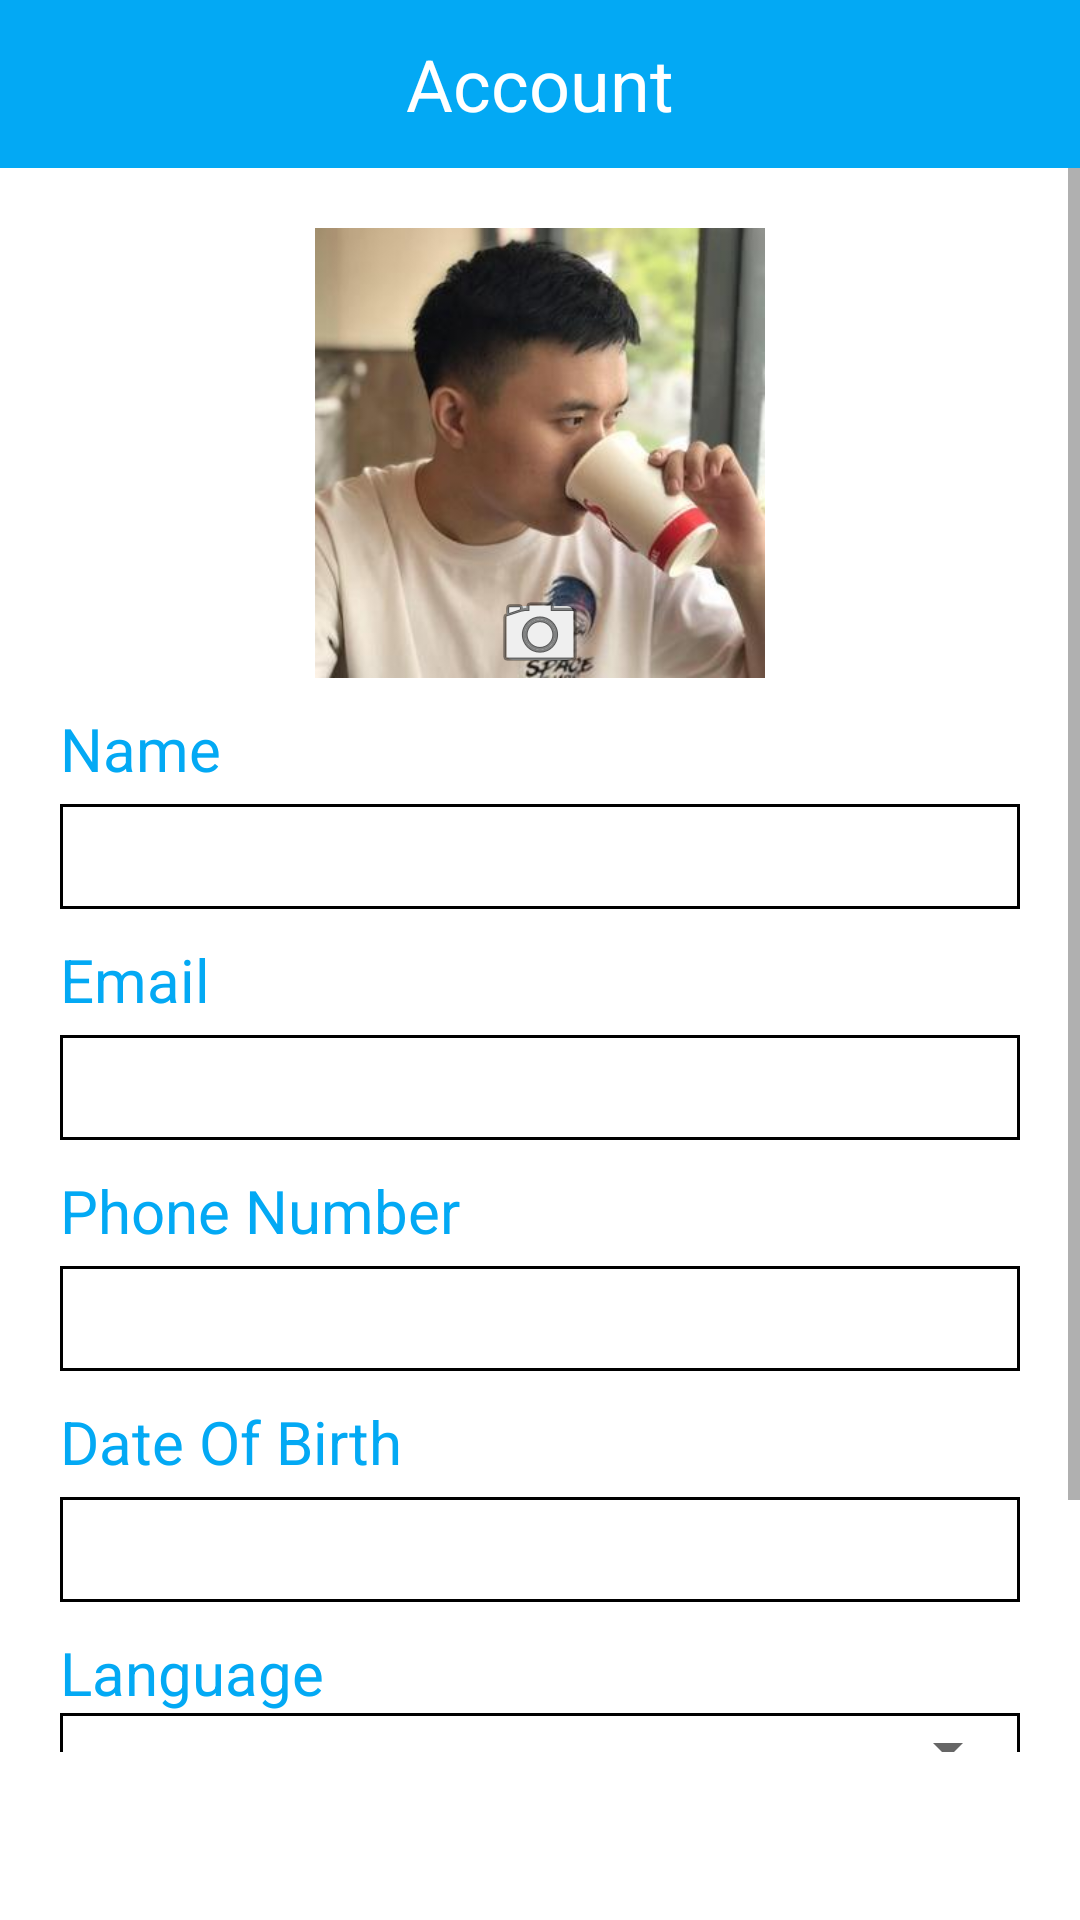

Icon click points for this 1080px×1920px phone screenshot, format (x=x, y=y):
camera: (x=540, y=633)
